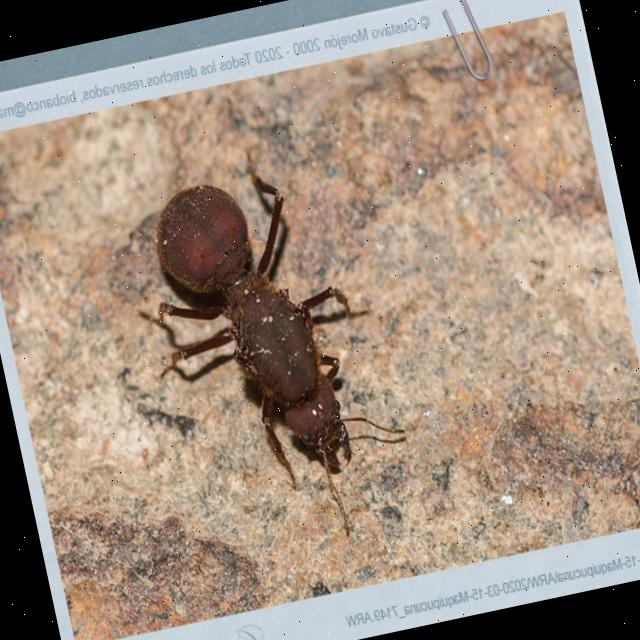Alive-Female-Dealate: (107, 128, 425, 572)
